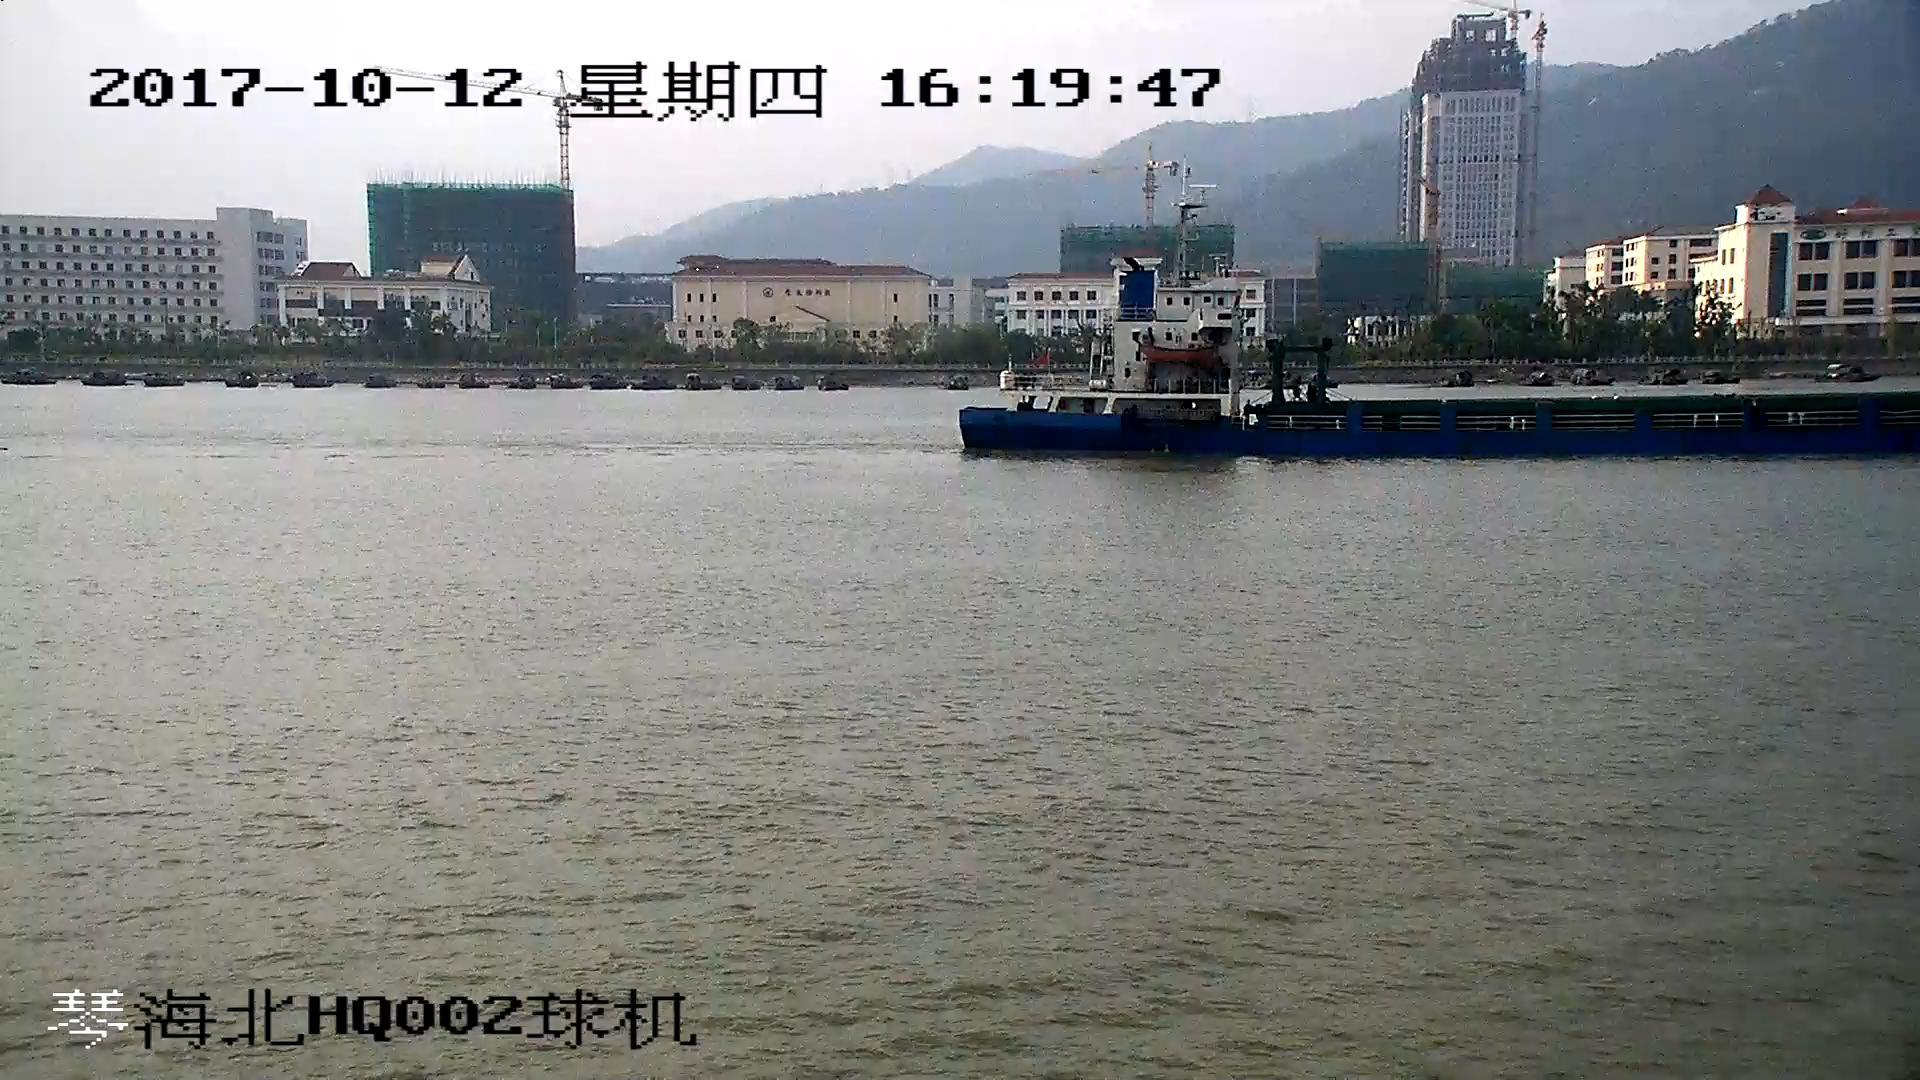general cargo ship: (958, 181, 1920, 461)
